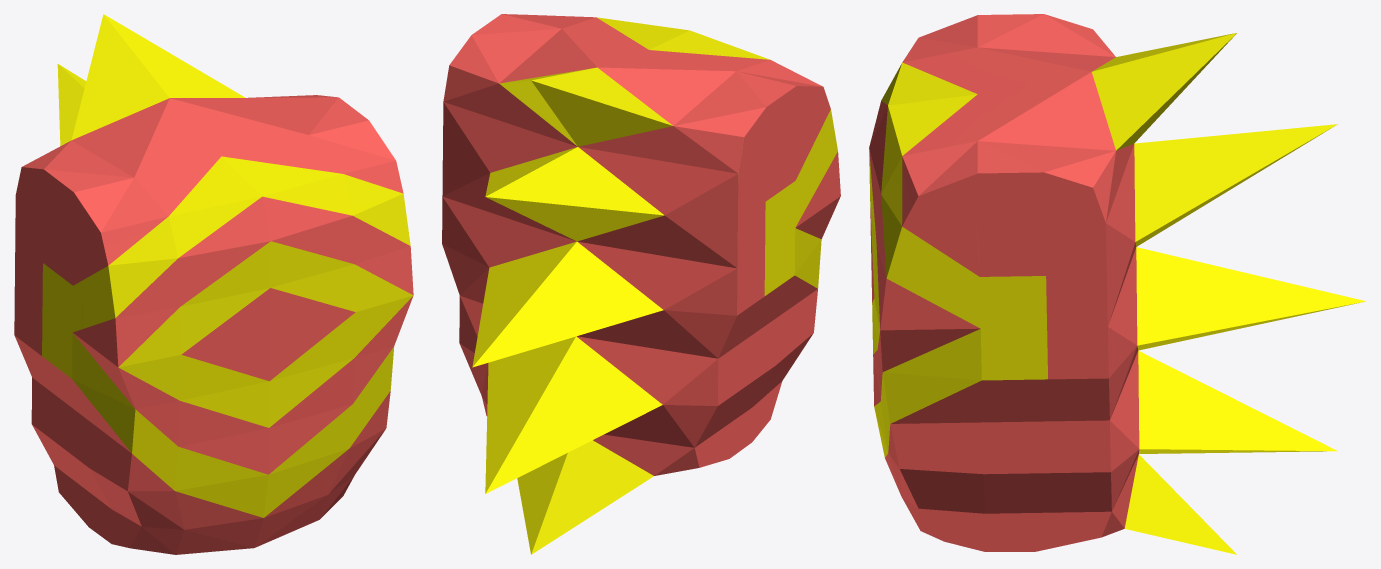
Rendered from BossBody.obj.
3 views of the same model, side by side, from view 1: azimuth 30°, elevation 25°; view 2: azimuth 150°, elevation 25°; view 3: azimuth 270°, elevation 25° (orthographic). The views are drawn at different scales.
Parts seen in each view (by area): view 1: ボス_平面.002; view 2: ボス_平面.002; view 3: ボス_平面.002.
Part boxes in pixels (x1,y1,x2,y2): ボス_平面.002: [14, 14, 413, 554]; ボス_平面.002: [442, 14, 840, 554]; ボス_平面.002: [869, 14, 1365, 554].
Bounding box in the file's own units: 7.49 × 11.51 × 9.94.
Materials: 1 (1 with a texture image).
